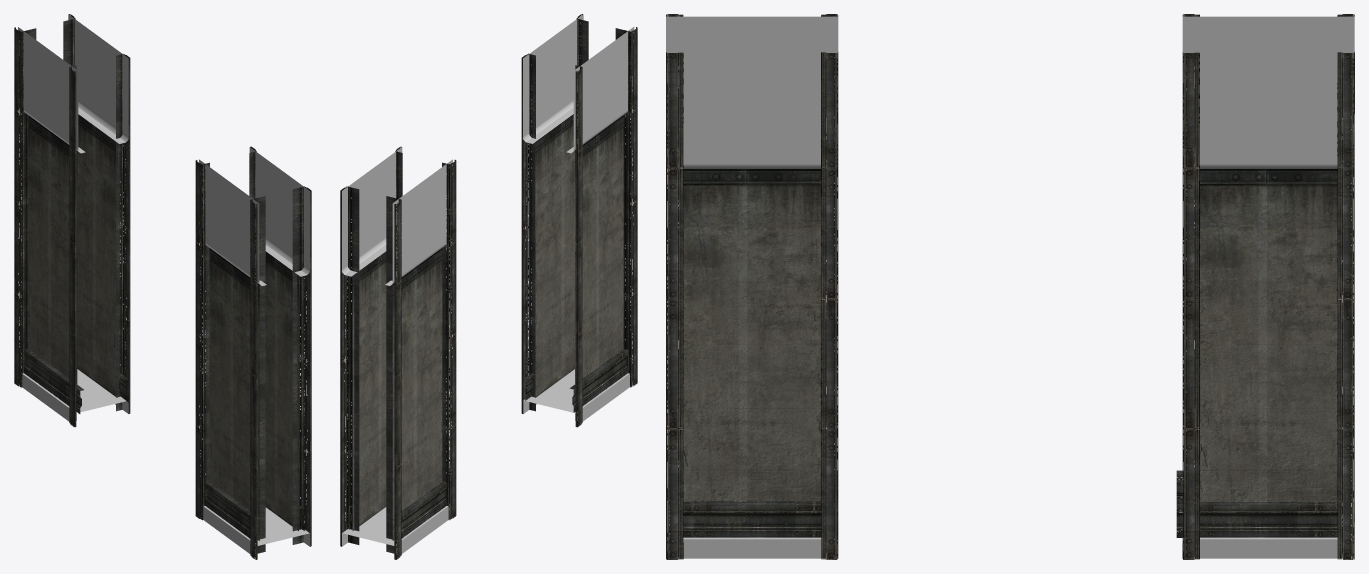
Rendered from tesla_modules1_doorframe_low_02.dae.
The picture shows the model from 3 angles, left to right: view 1: azimuth 30°, elevation 25°; view 2: azimuth 150°, elevation 25°; view 3: azimuth 270°, elevation 25°; orthographic projection. The views are drawn at different scales.
Parts seen in each view (by area): view 1: doorframe_02_arch1, doorframe_02_metal1, doorframe_02_stone; view 2: doorframe_02_arch1, doorframe_02_metal1, doorframe_02_stone; view 3: doorframe_02_arch1, doorframe_02_stone, doorframe_02_metal1.
Boxes of the visible parts, x1=… form: doorframe_02_arch1: x1=26, y1=114, x2=298, y2=540; doorframe_02_metal1: x1=14, y1=14, x2=311, y2=559; doorframe_02_stone: x1=18, y1=14, x2=309, y2=557; doorframe_02_arch1: x1=352, y1=114, x2=623, y2=540; doorframe_02_metal1: x1=340, y1=14, x2=637, y2=559; doorframe_02_stone: x1=342, y1=14, x2=634, y2=554; doorframe_02_arch1: x1=683, y1=168, x2=1337, y2=531; doorframe_02_stone: x1=666, y1=16, x2=1354, y2=558; doorframe_02_metal1: x1=666, y1=14, x2=1354, y2=559.
Size of the model in its own units: 107 by 650 by 800.
